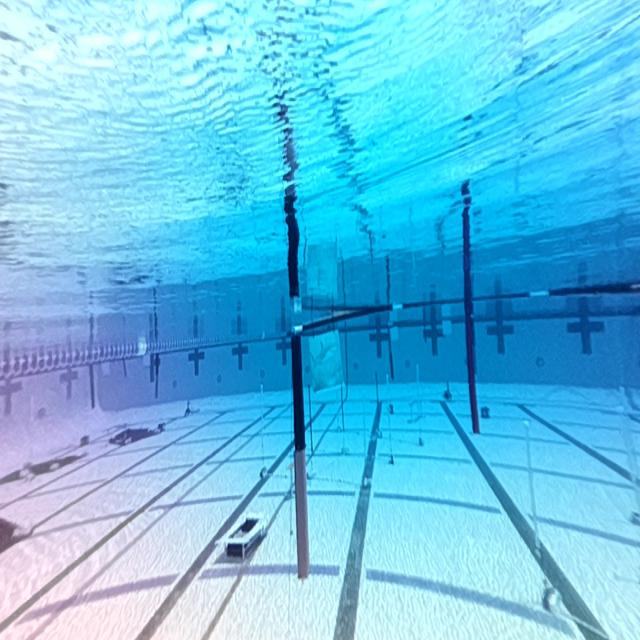round_nose: (309, 333, 340, 386)
